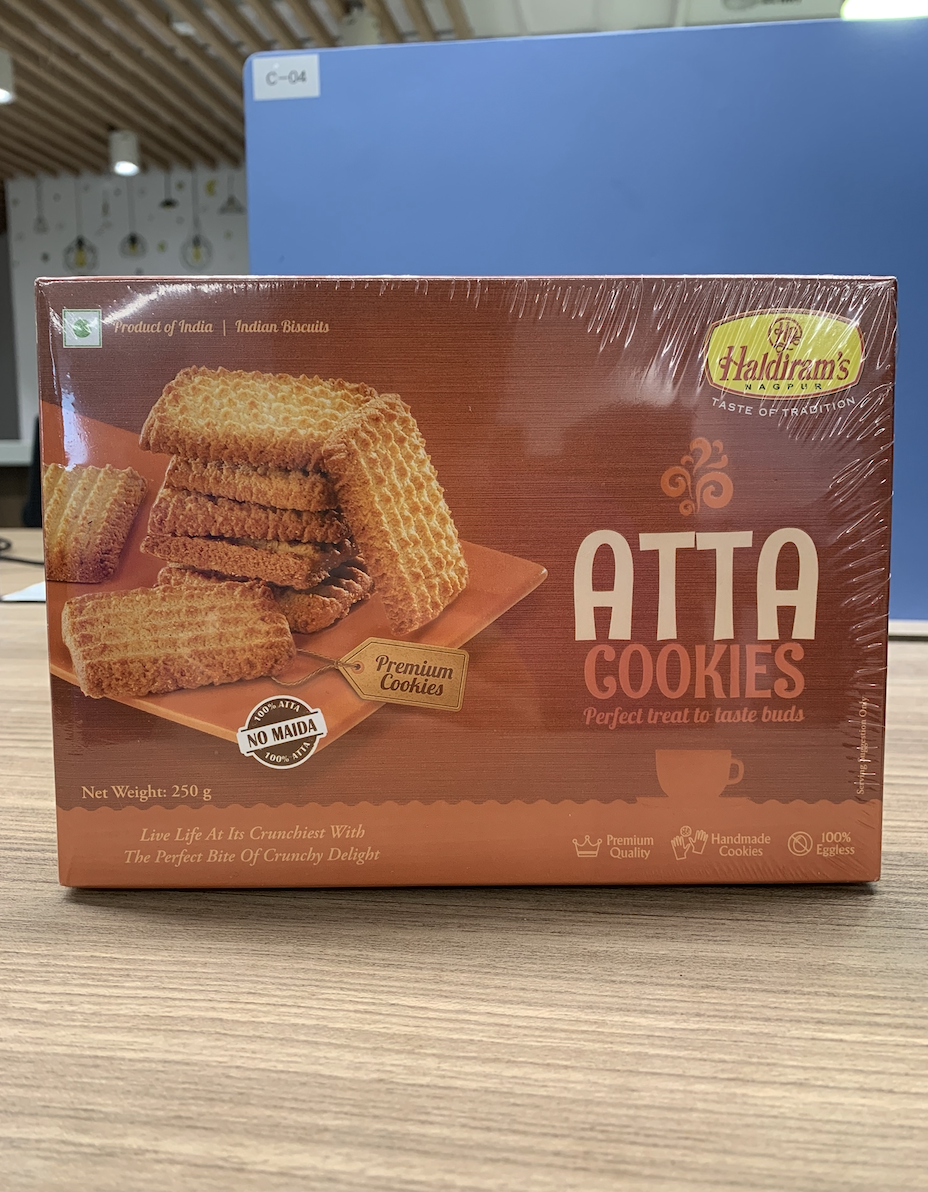cookies_150g: (29, 263, 889, 889)
